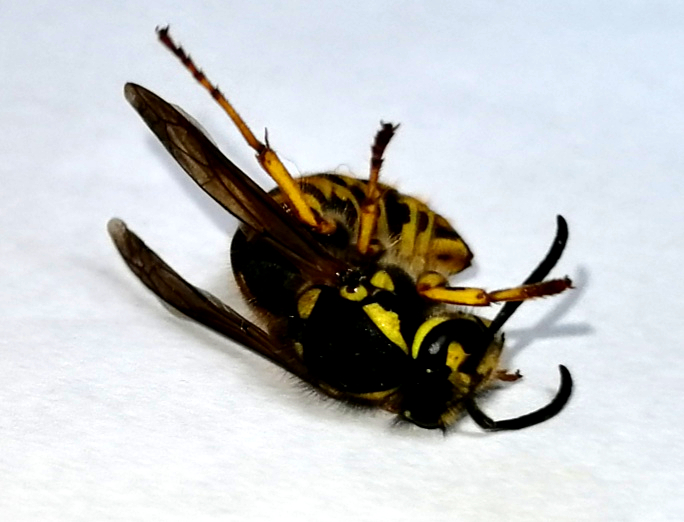chax: (103, 20, 607, 447)
